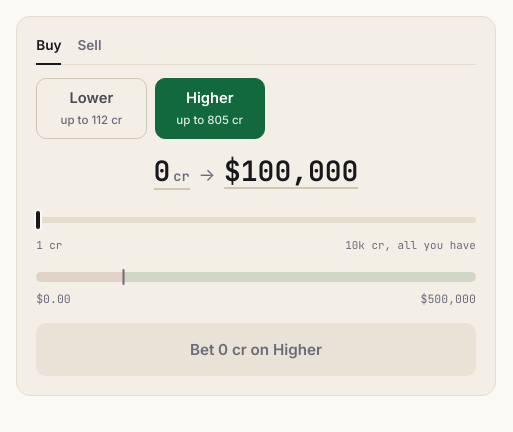
Test: the stake is one group, and nothing is pictured before a bet › a stake draws the payoff line
Replace the text in the field named "Credits to spend" with "250". click: (162, 170)
box: x1=154 y1=152 x2=170 y2=188
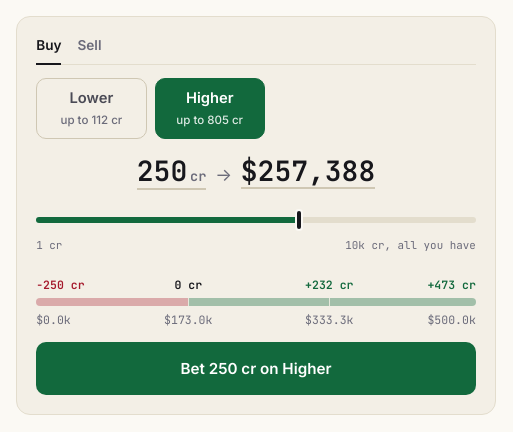
Now the element showing "-250 cr 0 cr +232 cr +473 cr $0.0k $173.0k $333.3k $500.0k" is shown, box x1=36 y1=276 x2=476 y2=329
